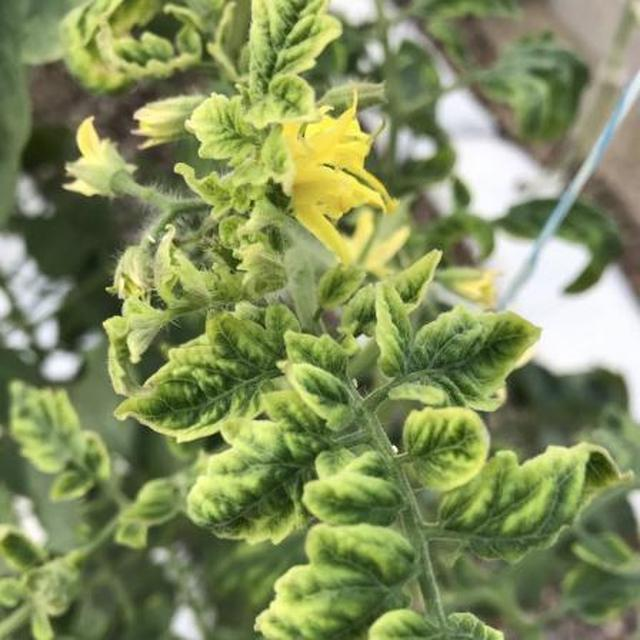Yellow Leaf Curl Virus: (128, 135, 640, 640)
